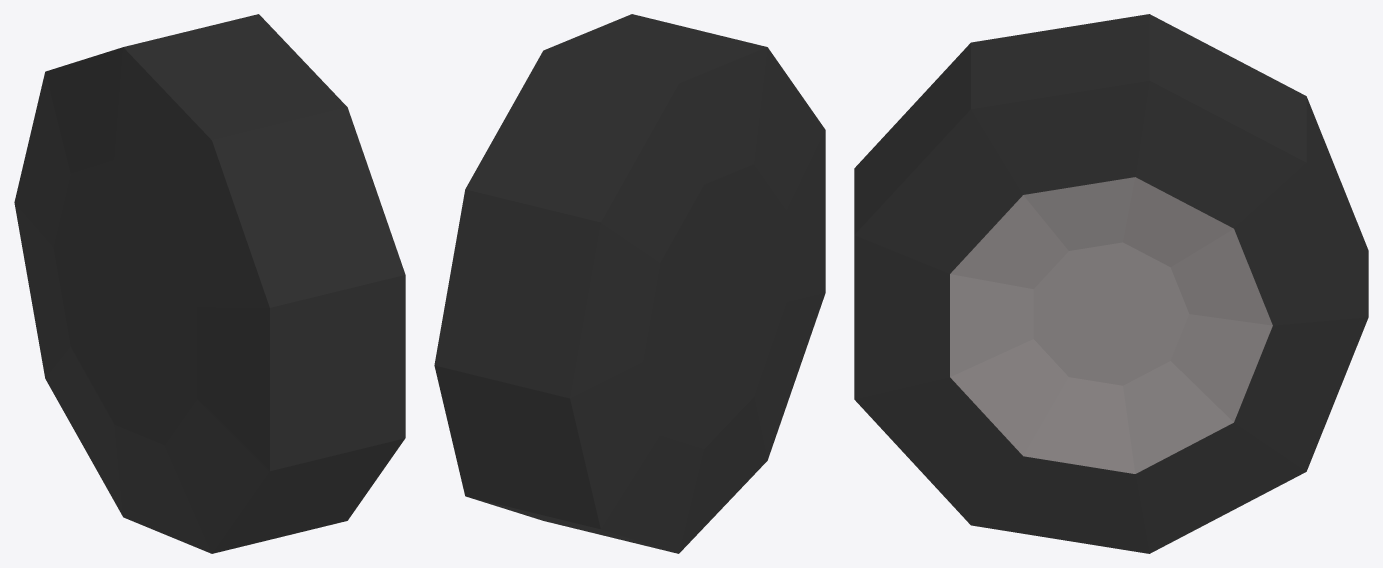
The model's file is car-firefighter-pickup-wheel_FL.glb.
The picture shows the model from 3 angles, left to right: view 1: azimuth 30°, elevation 25°; view 2: azimuth 150°, elevation 25°; view 3: azimuth 270°, elevation 25°; orthographic projection.
Visible parts, largest first — view 1: car-firefighter-pickup-wheel_FL; view 2: car-firefighter-pickup-wheel_FL; view 3: car-firefighter-pickup-wheel_FL.
Boxes of the visible parts, <box> form: car-firefighter-pickup-wheel_FL: <box>14,14,405,553</box>; car-firefighter-pickup-wheel_FL: <box>434,14,825,553</box>; car-firefighter-pickup-wheel_FL: <box>854,14,1368,553</box>.
Bounding box in the file's own units: 0.2936 × 0.7781 × 0.7662.
1 material, 1 textured.
